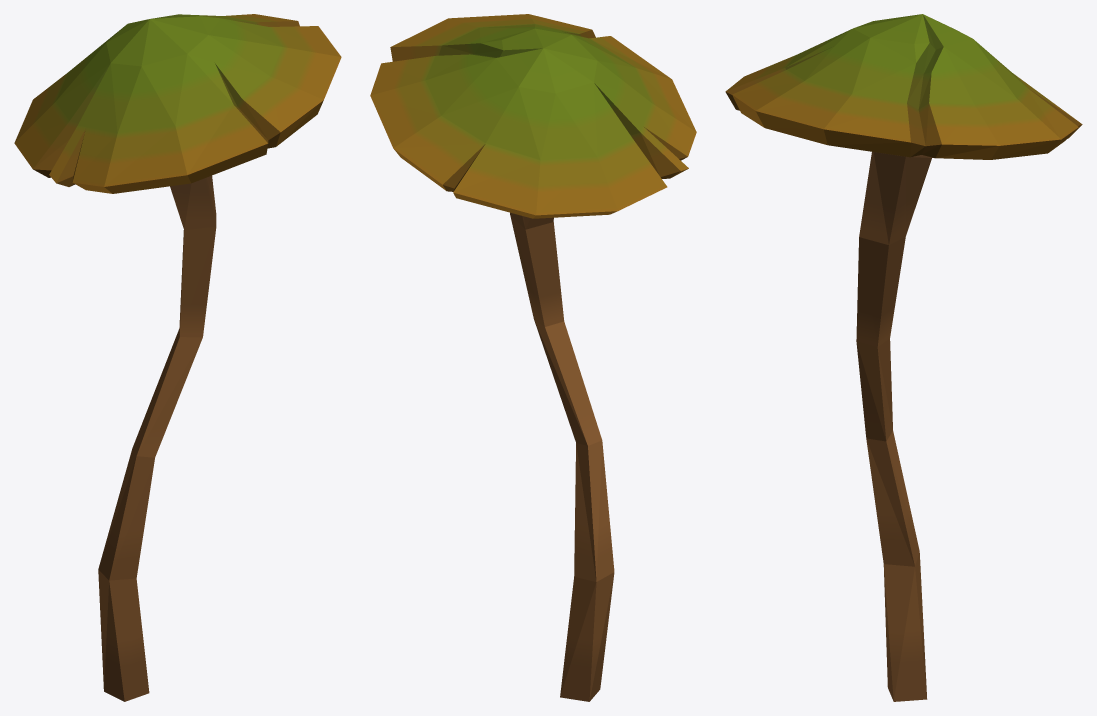
File: um_mushroom001.FBX
3 views of the same model, side by side, from view 1: azimuth 30°, elevation 25°; view 2: azimuth 150°, elevation 25°; view 3: azimuth 270°, elevation 25° (orthographic). The views are drawn at different scales.
Parts seen in each view (by area): view 1: um_mushroom001; view 2: um_mushroom001; view 3: um_mushroom001.
Boxes of the visible parts, x1,y1,x2,y2 form: um_mushroom001: [14, 14, 341, 701]; um_mushroom001: [370, 14, 696, 701]; um_mushroom001: [725, 14, 1082, 701].
Bounding box in the file's own units: 1.78 × 3.93 × 1.83.
